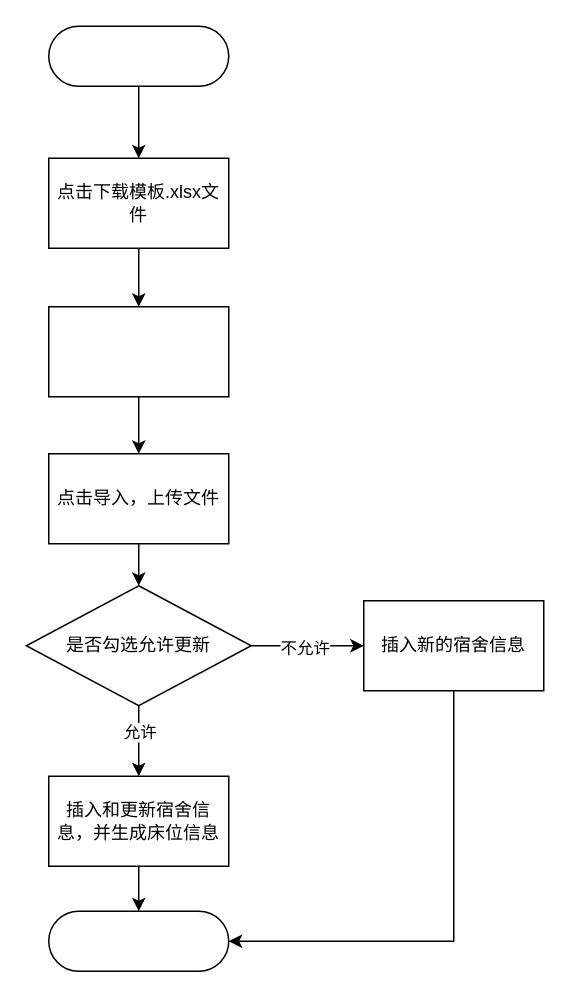
This 570x998 diagram has some shape labels left out. The box of each missing label's shape, as (x1, y1, x2, y2) in pixels:
开始: (47, 25, 229, 86)
按照文件填写数据: (47, 305, 229, 397)
结束: (47, 910, 229, 971)
